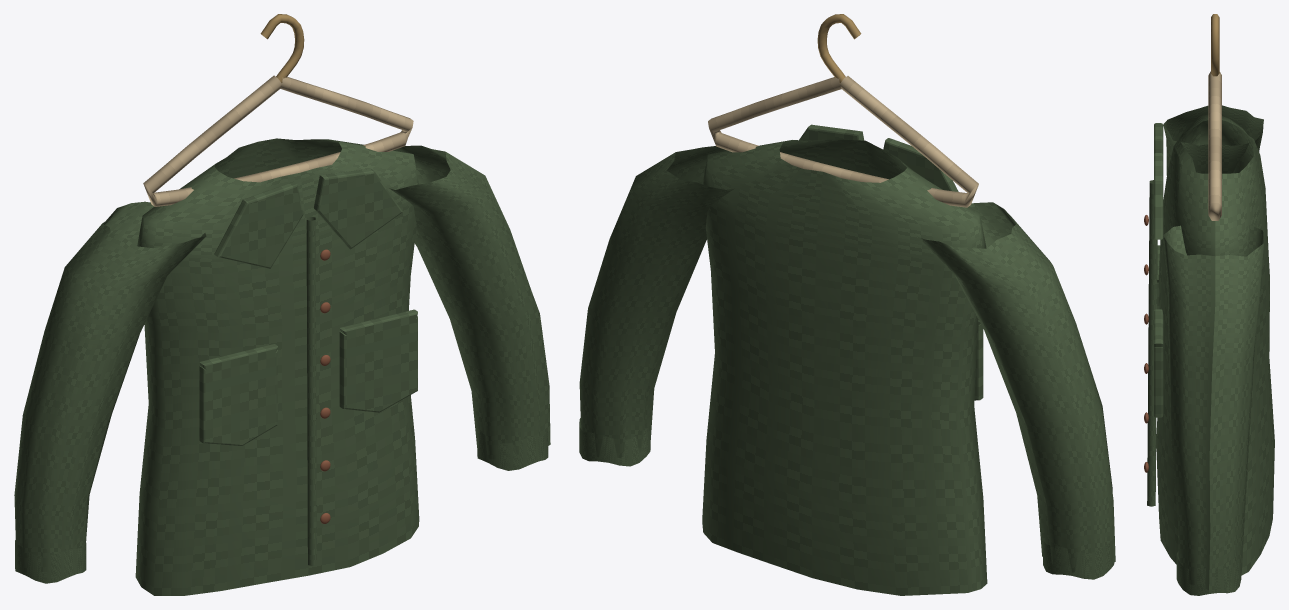
The picture shows the model from 3 angles, left to right: view 1: azimuth 30°, elevation 25°; view 2: azimuth 150°, elevation 25°; view 3: azimuth 270°, elevation 25°; orthographic projection. The views are drawn at different scales.
Visible parts, largest first — view 1: fabric_olive, ash_grain, aged_brass; view 2: fabric_olive, ash_grain, aged_brass; view 3: fabric_olive, ash_grain, aged_brass, leather_tobacco.
Boxes of the visible parts, x1=… form: fabric_olive: x1=14, y1=138, x2=550, y2=595; ash_grain: x1=143, y1=75, x2=413, y2=206; aged_brass: x1=260, y1=14, x2=304, y2=82; fabric_olive: x1=579, y1=124, x2=1115, y2=595; ash_grain: x1=708, y1=76, x2=978, y2=207; aged_brass: x1=817, y1=14, x2=861, y2=83; fabric_olive: x1=1147, y1=105, x2=1274, y2=595; ash_grain: x1=1208, y1=71, x2=1221, y2=220; aged_brass: x1=1211, y1=14, x2=1219, y2=76; leather_tobacco: x1=1144, y1=215, x2=1148, y2=472.
Bounding box in the file's own units: 0.9217 × 0.9038 × 0.2115.
4 materials, 2 textured.
